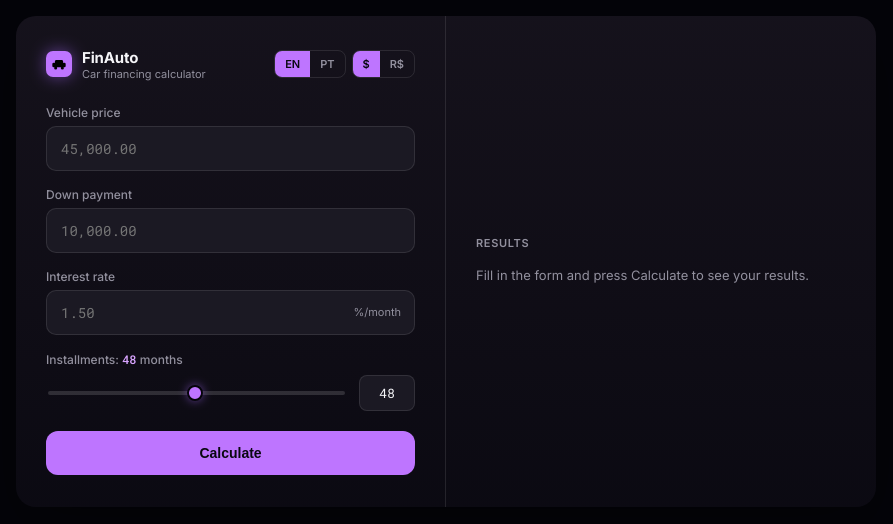
App › calculates and displays results for a valid submission
This screenshot has width=893, height=524.
Step 1. Type "4500000" into the field labelled "Vehicle price" → point(230, 148), box [46,126,415,170]
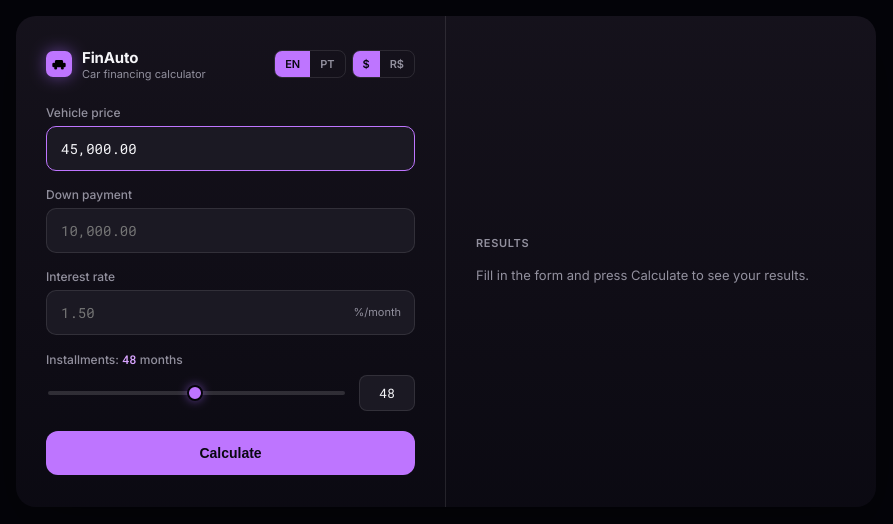
Step 2. Type "1000000" into the field labelled "Down payment" → point(230, 230), box [46,208,415,252]
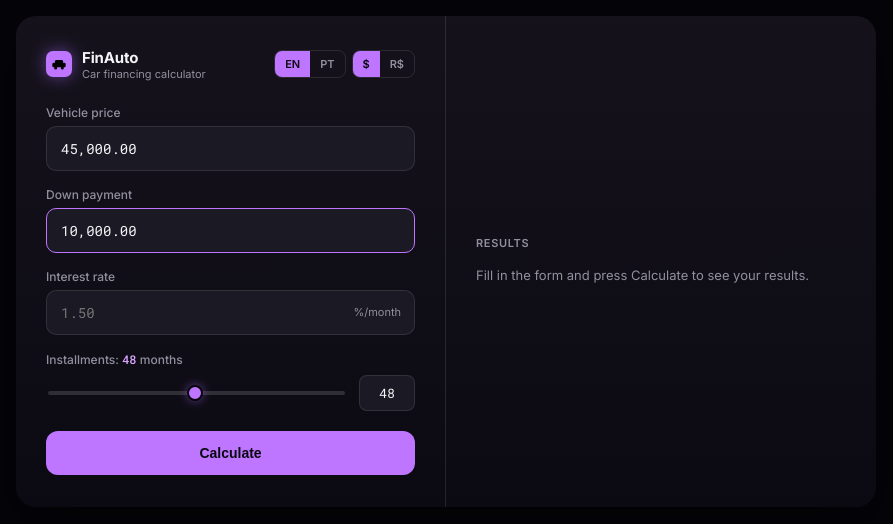
Step 3. Type "150" into the field labelled "Interest rate" → point(230, 312), box [46,290,415,334]
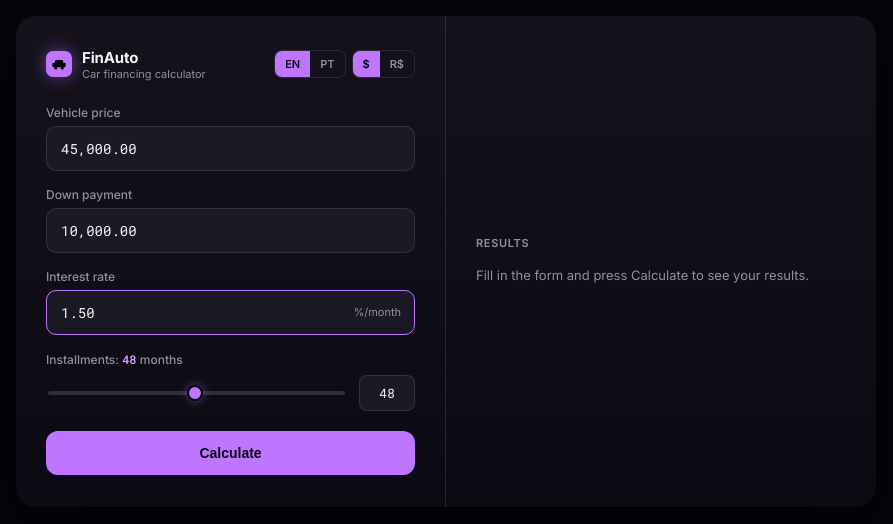
Step 4. Click the button "Calculate" → point(230, 452), box [46,430,415,474]
Wait 1000 ms
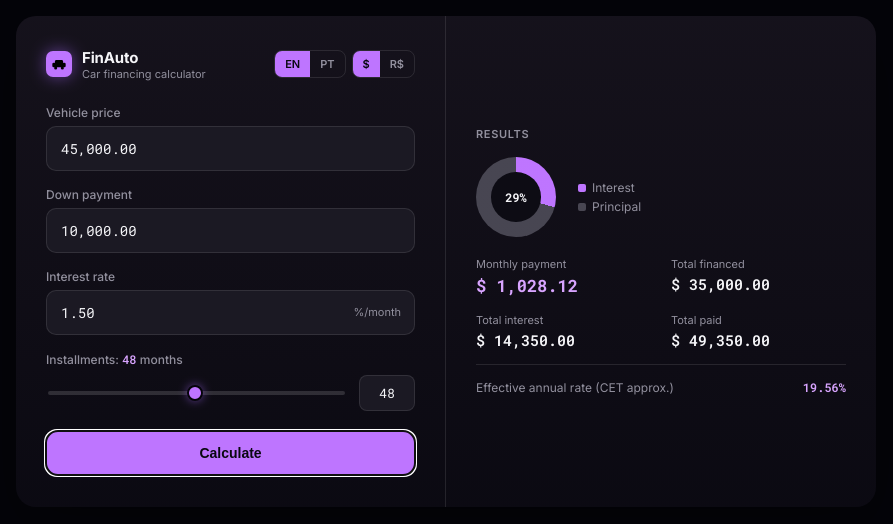
Expected: the text "$ 35,000.00" is shown, [671,274,770,294]
Expected: the text "19.56%" is shown, [803,379,846,395]
